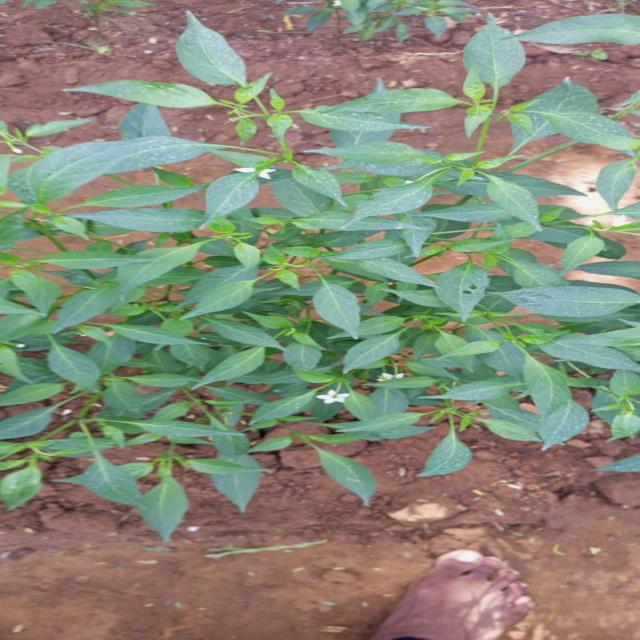Mosaic_virus: (3, 16, 640, 526)
